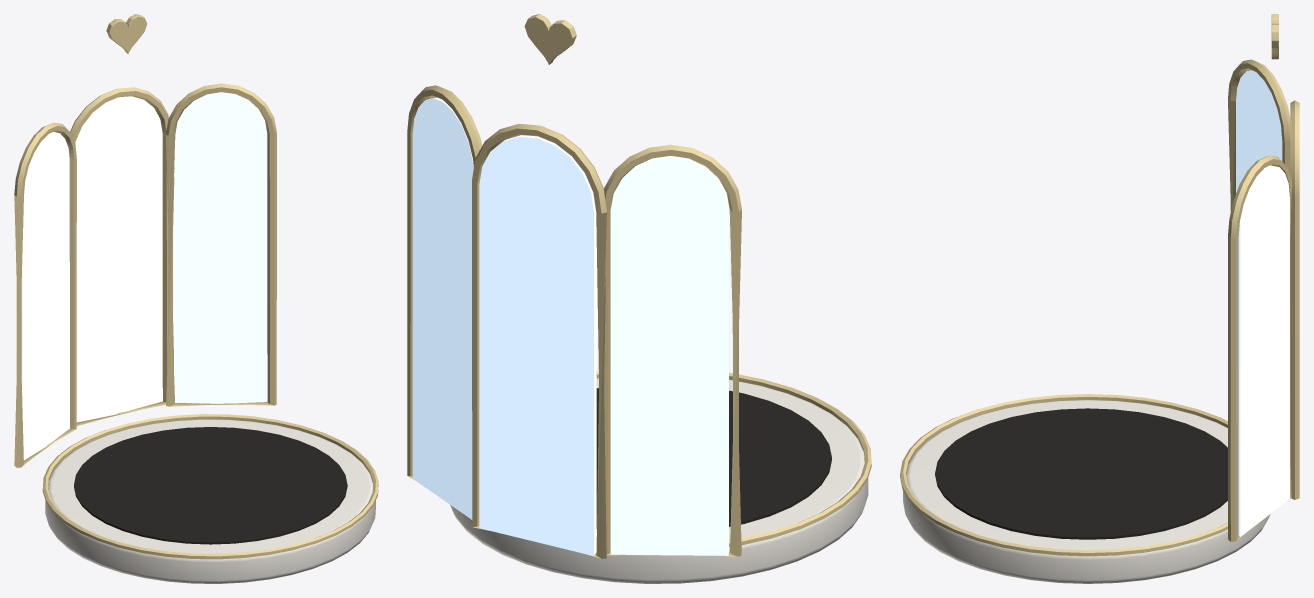
File: mirror_trifold_stand.glb
The picture shows the model from 3 angles, left to right: view 1: azimuth 30°, elevation 25°; view 2: azimuth 150°, elevation 25°; view 3: azimuth 270°, elevation 25°; orthographic projection. The views are drawn at different scales.
Visible parts, largest first — view 1: mirror_trifold_stand; view 2: mirror_trifold_stand; view 3: mirror_trifold_stand.
Boxes of the visible parts, bbox=[...] form: mirror_trifold_stand: bbox=[14, 14, 378, 583]; mirror_trifold_stand: bbox=[407, 14, 871, 583]; mirror_trifold_stand: bbox=[900, 14, 1299, 583].
Size of the model in its own units: 1.52 by 2.19 by 1.62.
